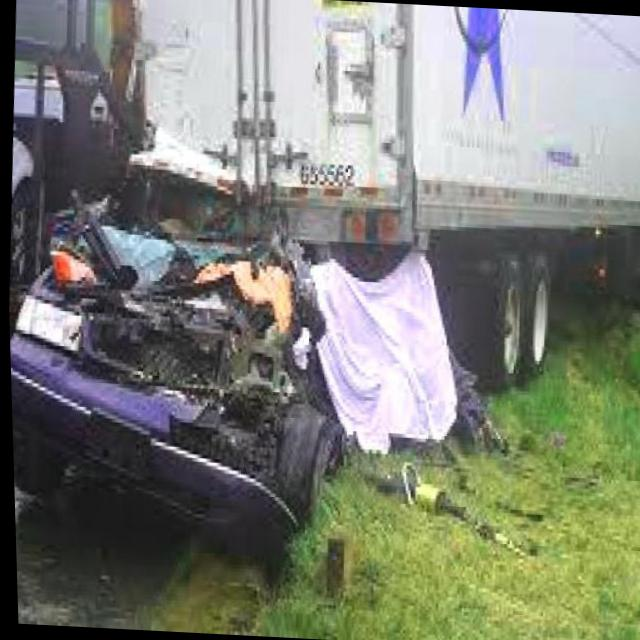Car-Damage: (20, 224, 333, 526)
